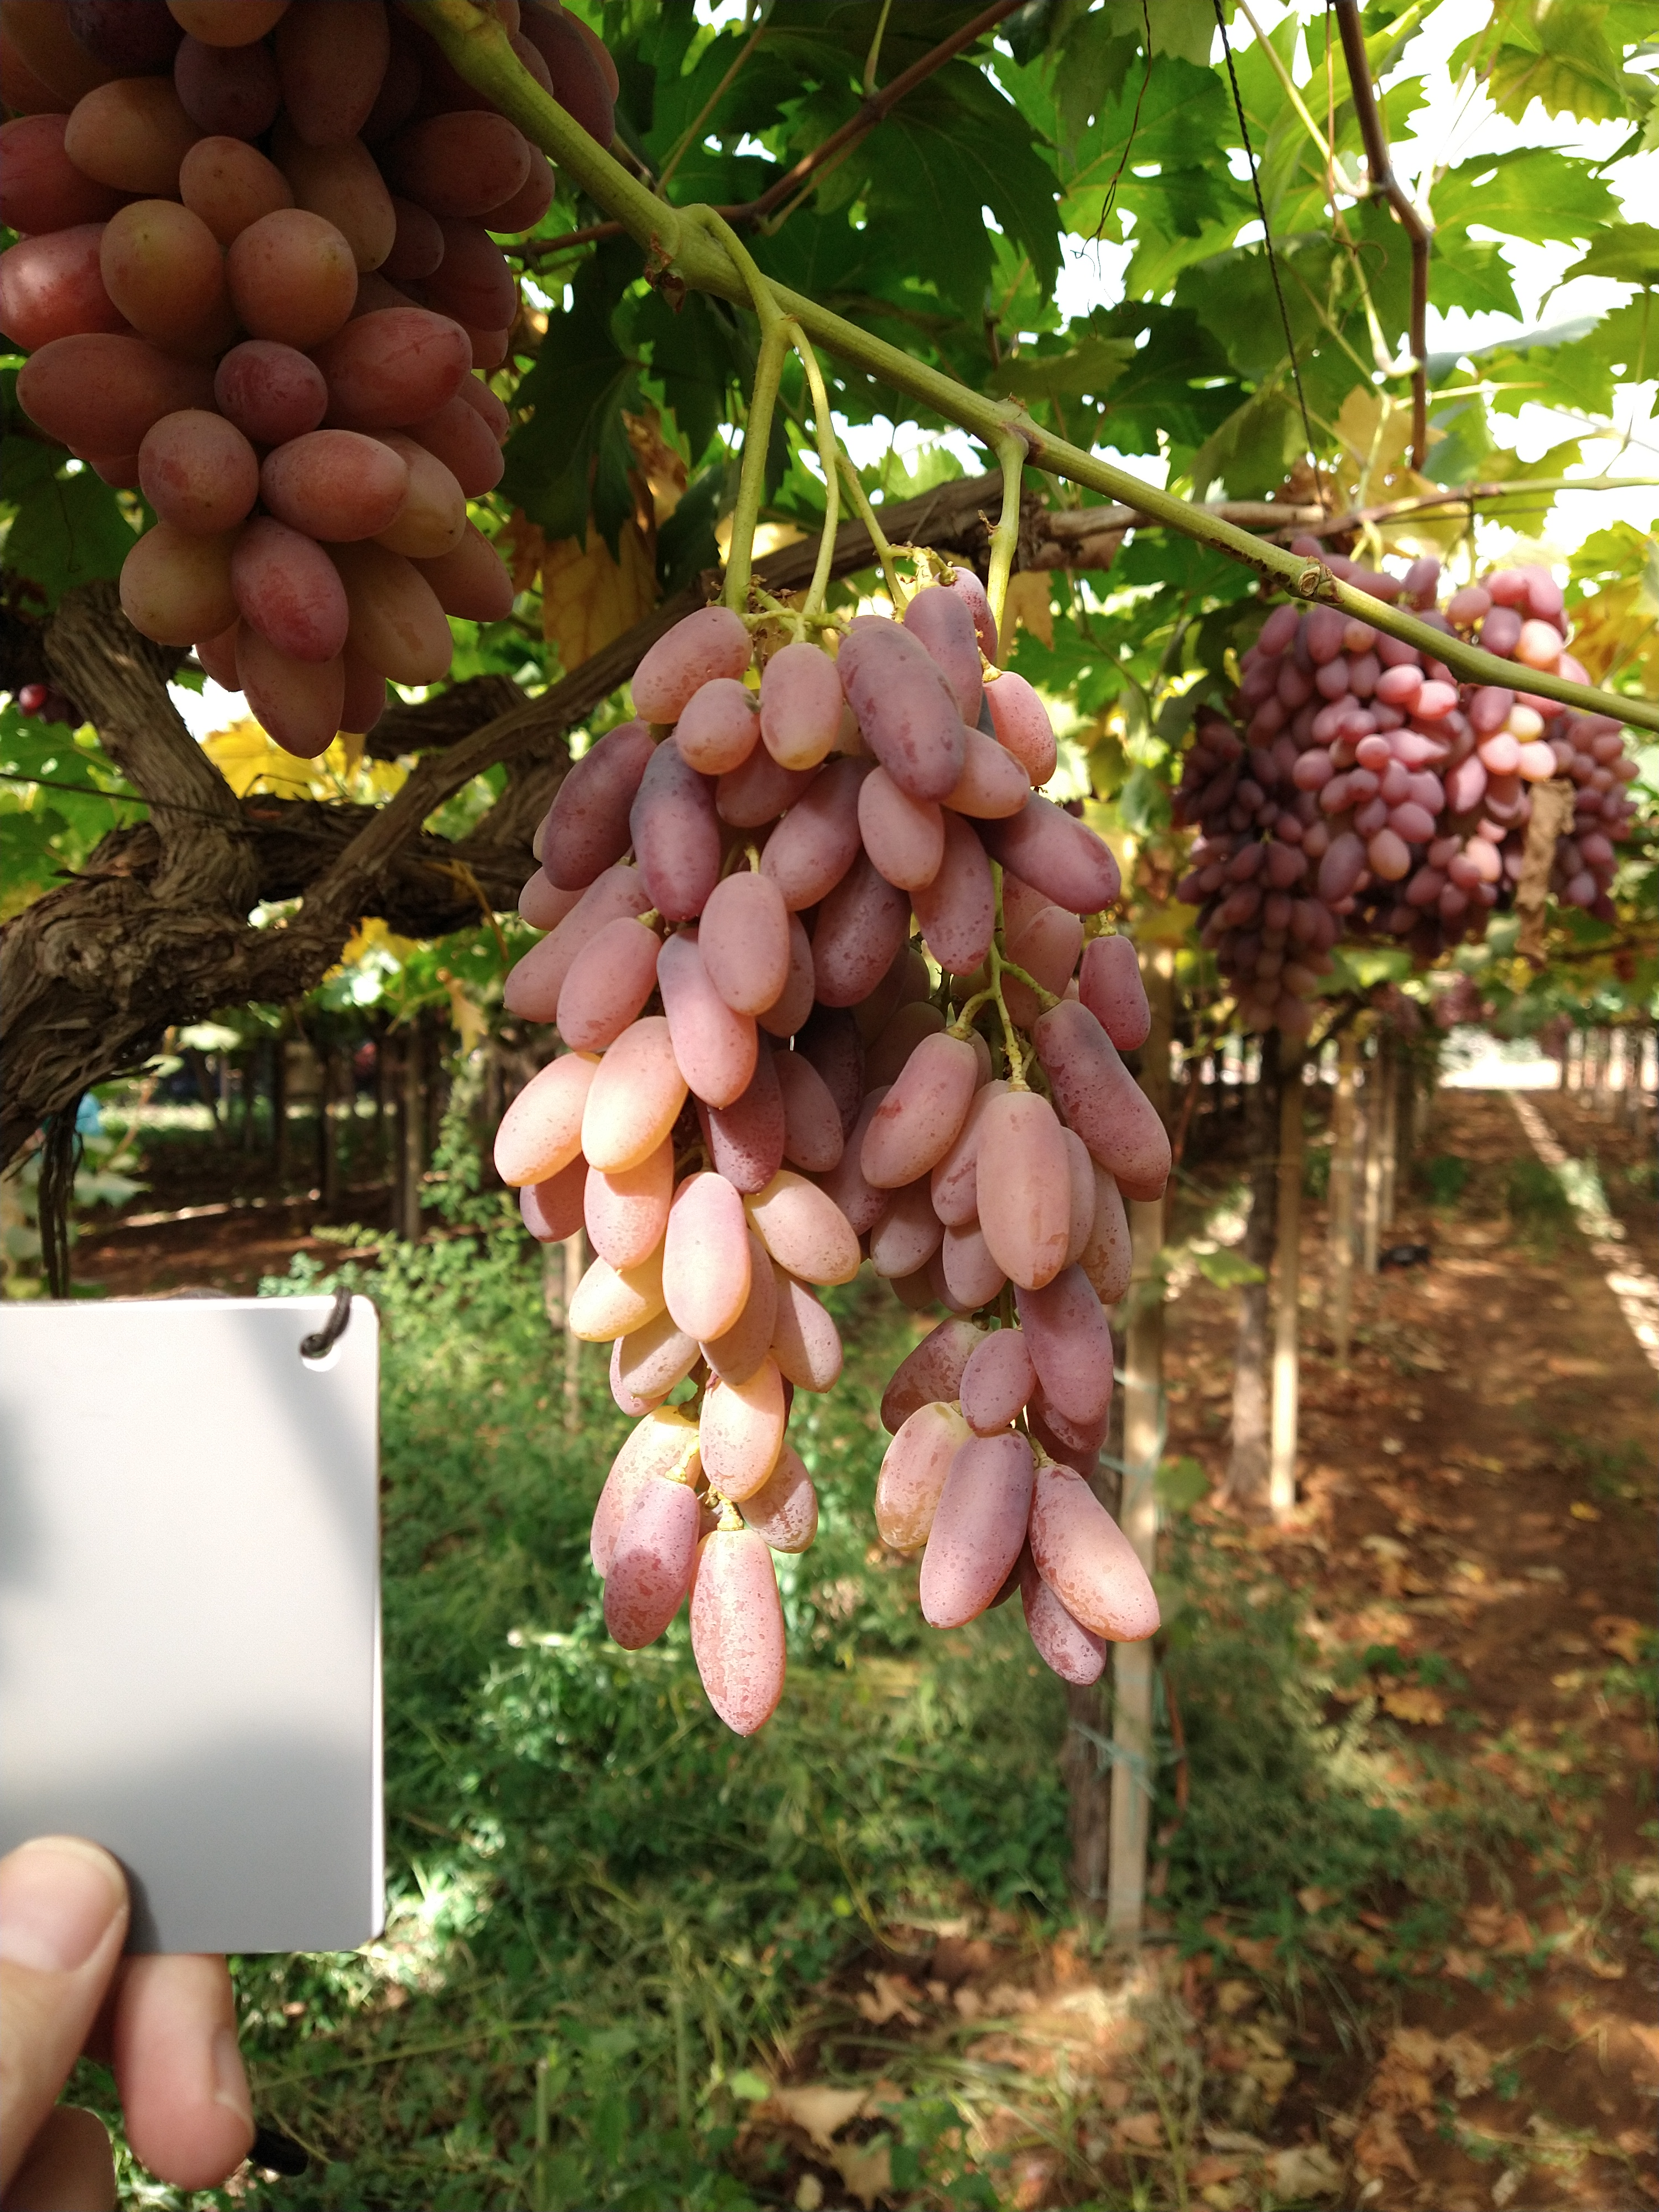acino: (1023, 1000, 1175, 1188), (1025, 1454, 1161, 1641), (833, 613, 964, 801), (918, 1425, 1039, 1625), (16, 331, 190, 455), (692, 1524, 789, 1740), (98, 193, 228, 348), (972, 1089, 1073, 1287), (857, 1029, 981, 1188), (655, 927, 760, 1109), (577, 1014, 688, 1179), (223, 207, 357, 343), (258, 423, 410, 543), (227, 517, 349, 665), (544, 725, 650, 894), (603, 1474, 702, 1648), (324, 307, 474, 421), (983, 794, 1124, 913), (1012, 1266, 1115, 1425), (660, 1169, 755, 1341), (387, 113, 532, 223), (349, 547, 455, 688), (282, 0, 389, 141), (631, 752, 718, 921), (873, 1402, 972, 1548), (138, 409, 260, 528), (68, 77, 193, 192), (554, 916, 657, 1055), (629, 608, 753, 723), (237, 629, 347, 758), (118, 519, 228, 648), (744, 1169, 861, 1287), (497, 1049, 596, 1183), (697, 1362, 789, 1505), (697, 871, 789, 1014), (910, 824, 995, 977), (812, 869, 904, 1010), (758, 780, 859, 904), (688, 1071, 788, 1197), (0, 228, 99, 348), (857, 765, 948, 894), (178, 138, 295, 235), (213, 341, 328, 439), (760, 637, 842, 773), (579, 1160, 674, 1273), (1075, 925, 1154, 1052), (769, 1052, 849, 1176), (763, 1277, 845, 1395), (563, 1247, 666, 1341), (979, 667, 1058, 786), (430, 514, 516, 622), (674, 676, 765, 773), (960, 1325, 1037, 1439), (735, 1453, 817, 1557), (953, 723, 1032, 822), (617, 1308, 701, 1400), (870, 1190, 939, 1277), (939, 1221, 1004, 1306)
